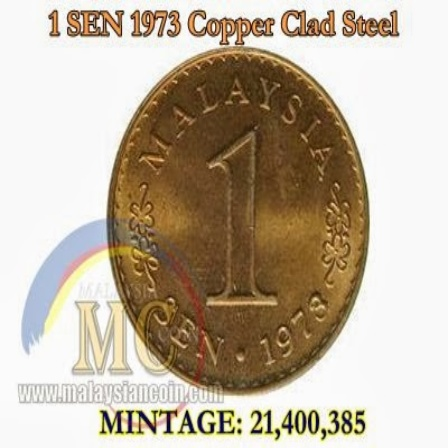1c: (105, 46, 371, 396)
